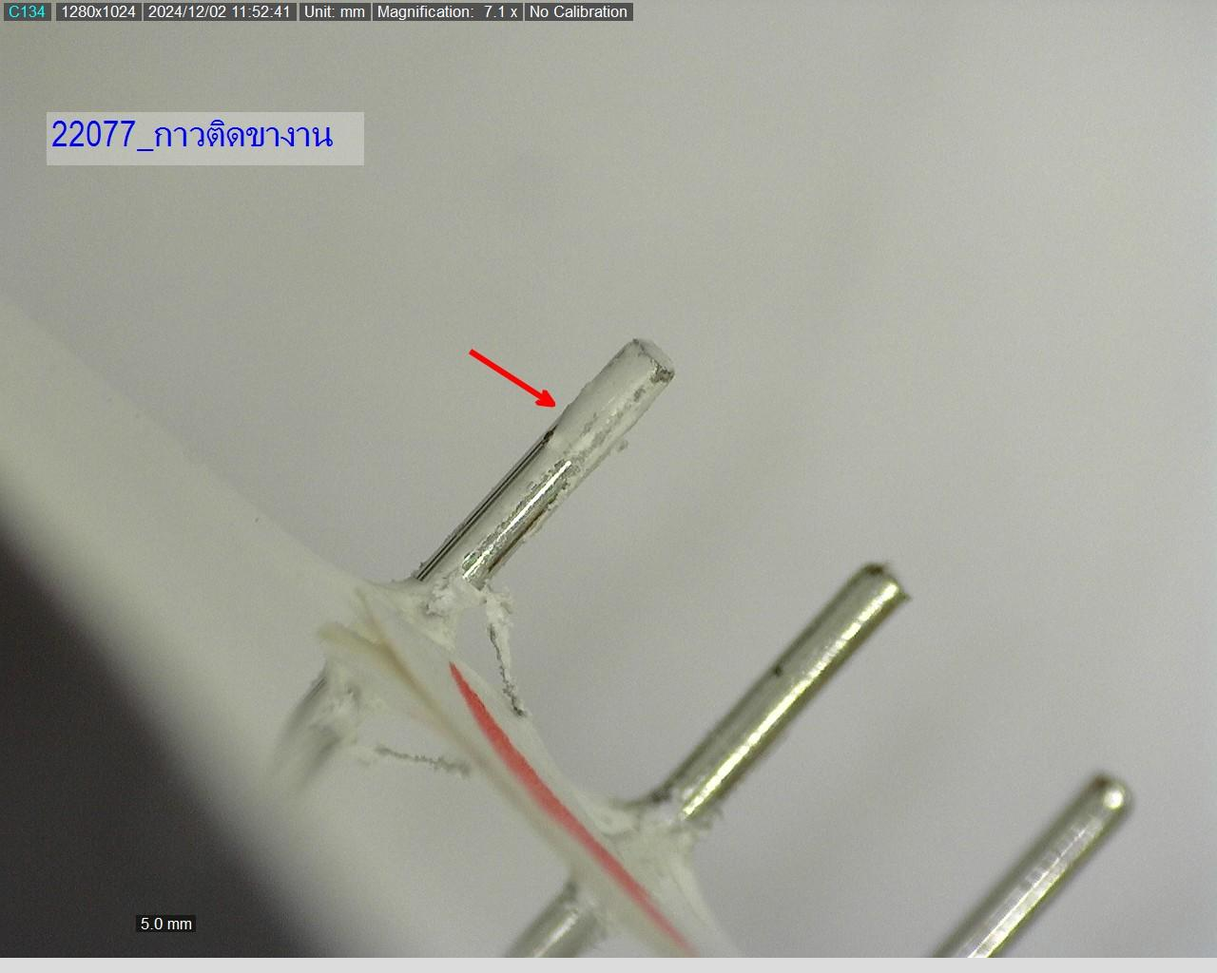glue: (520, 310, 679, 495)
